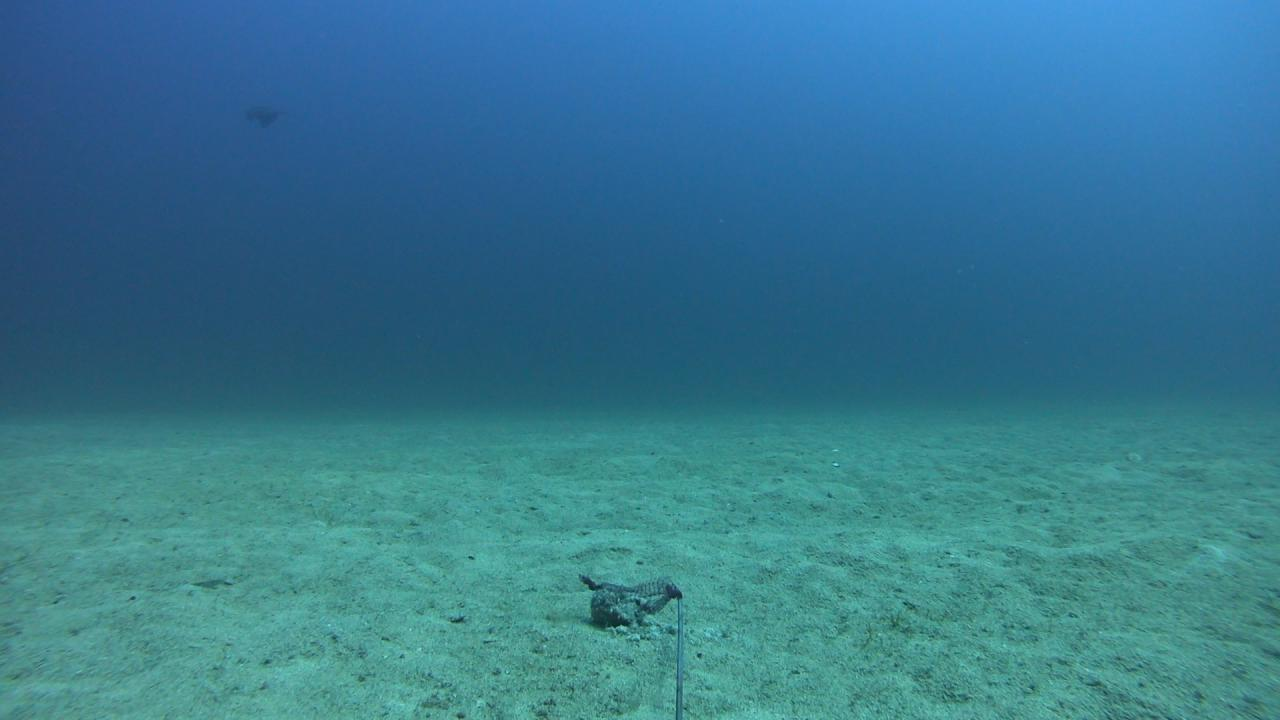dasyatis: (242, 101, 306, 128)
